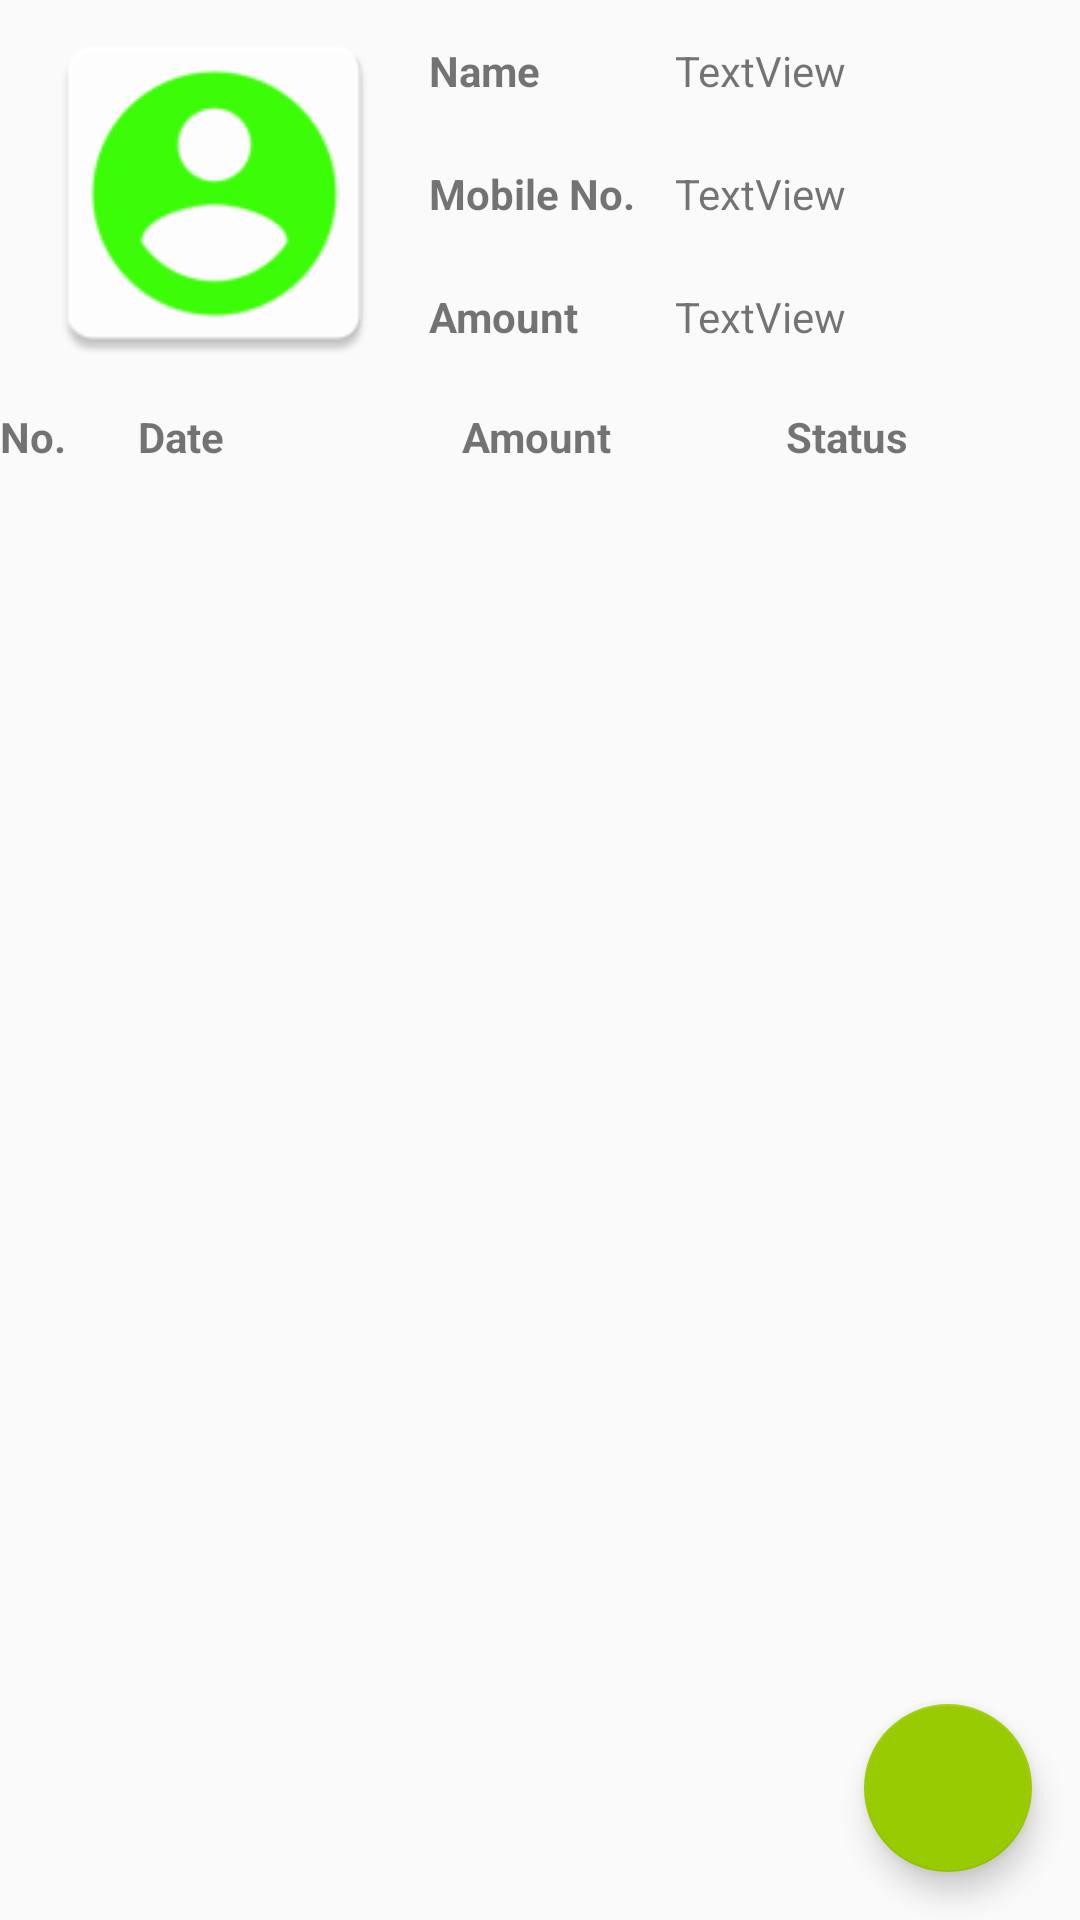

Where icons sit on this 1080px x 1920px app screen, as (x1, y1, x2, y2):
customer: (68, 64, 362, 349)
